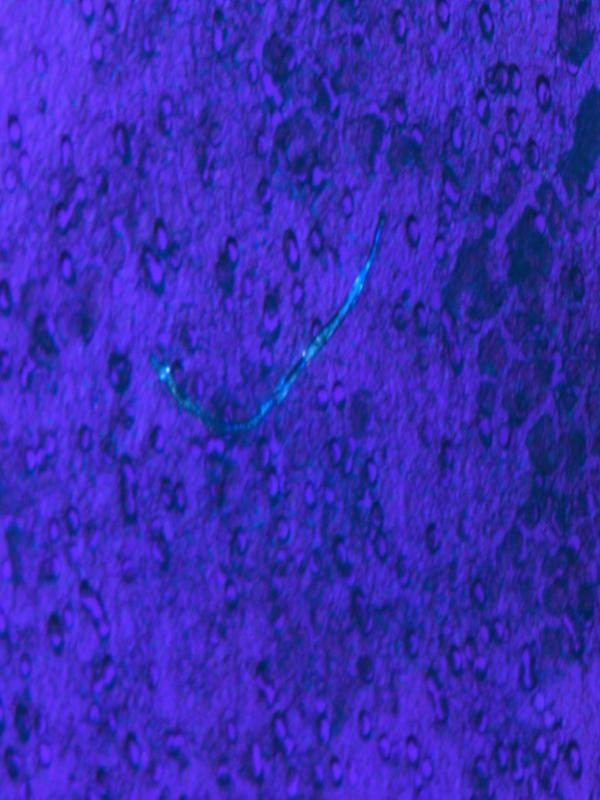microplastic: (0, 1, 598, 798), (149, 205, 387, 440)
